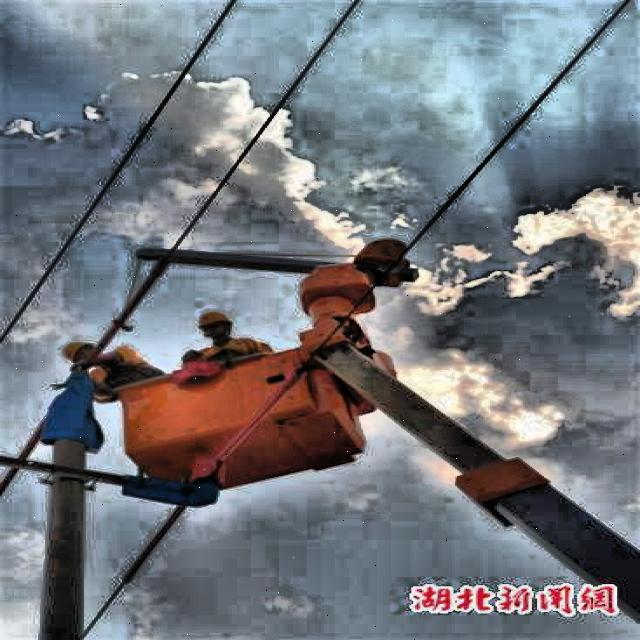helmet: (57, 339, 117, 366), (197, 310, 237, 342)
